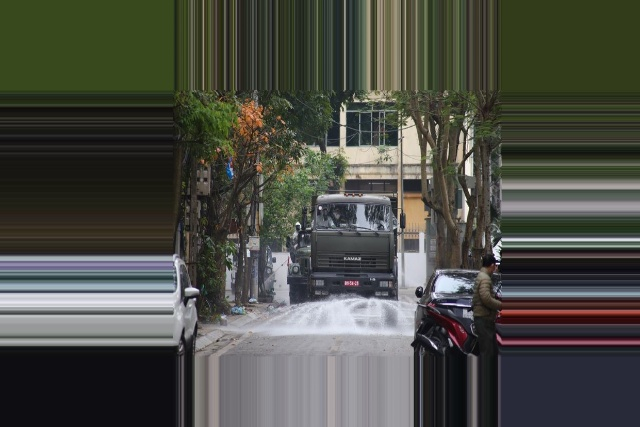plate: (342, 278, 362, 287)
